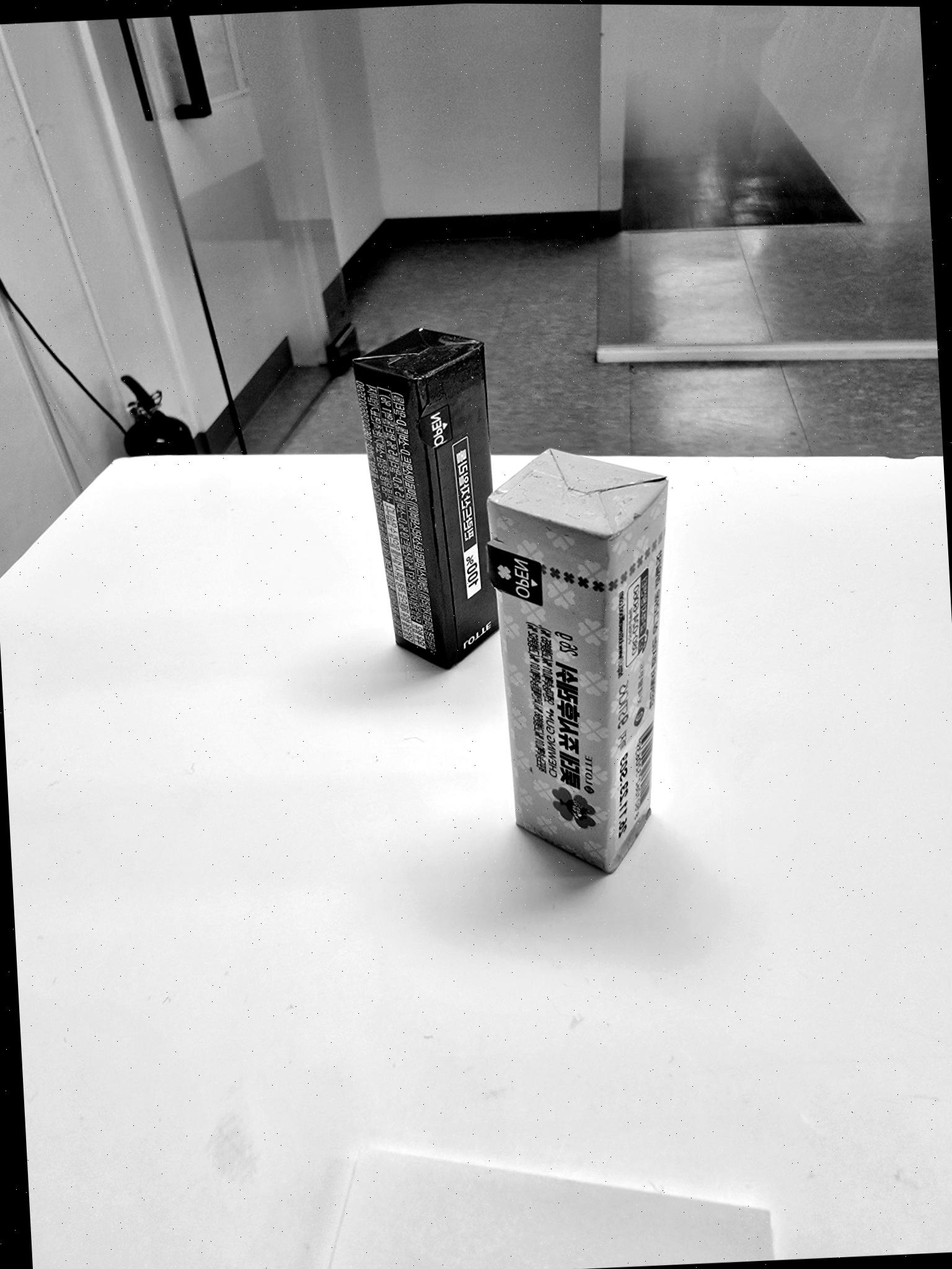gum_green: (352, 327, 500, 669)
gum_yellow: (485, 447, 669, 876)
